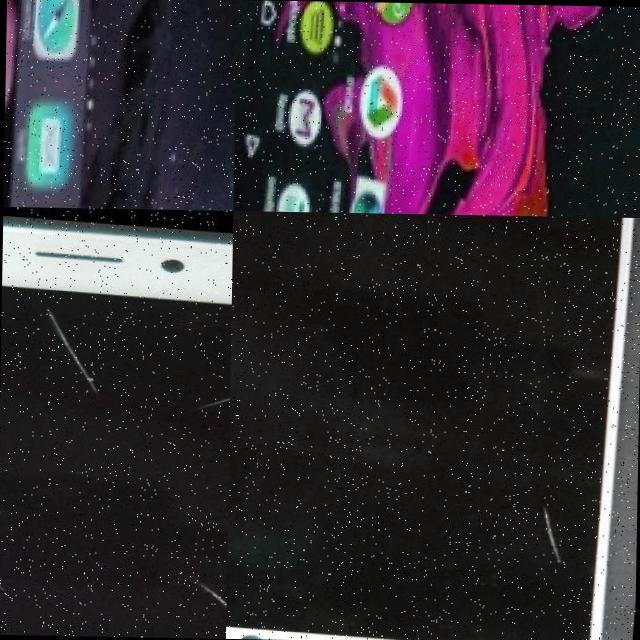scratch: (38, 301, 127, 389), (537, 496, 575, 562), (194, 576, 226, 638), (186, 366, 230, 408)
